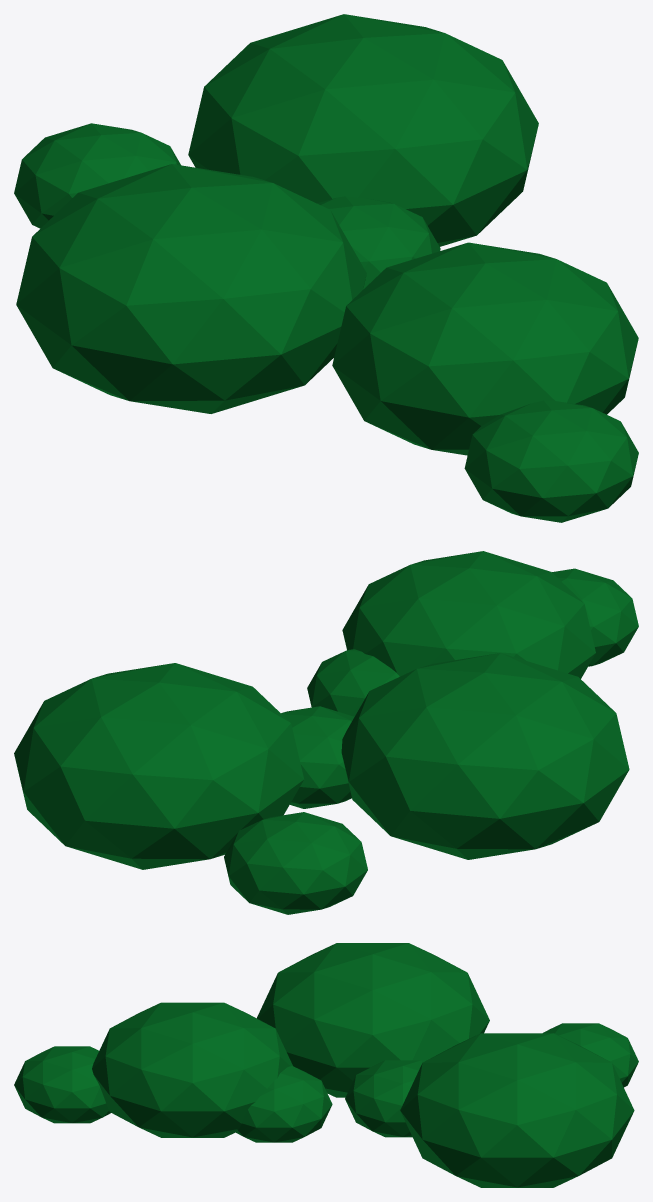
File: Bush.002.fbx
The picture shows the model from 3 angles, top to bottom: view 1: azimuth 30°, elevation 25°; view 2: azimuth 150°, elevation 25°; view 3: azimuth 270°, elevation 25°; orthographic projection. The views are drawn at different scales.
Parts seen in each view (by area): view 1: Bush.002; view 2: Bush.002; view 3: Bush.002.
Part boxes in pixels (left/top/right/bottom): Bush.002: left=14, top=14, right=638, bottom=522; Bush.002: left=14, top=551, right=638, bottom=914; Bush.002: left=14, top=943, right=638, bottom=1187.
Size of the model in its own units: 215 by 71.85 by 307.
